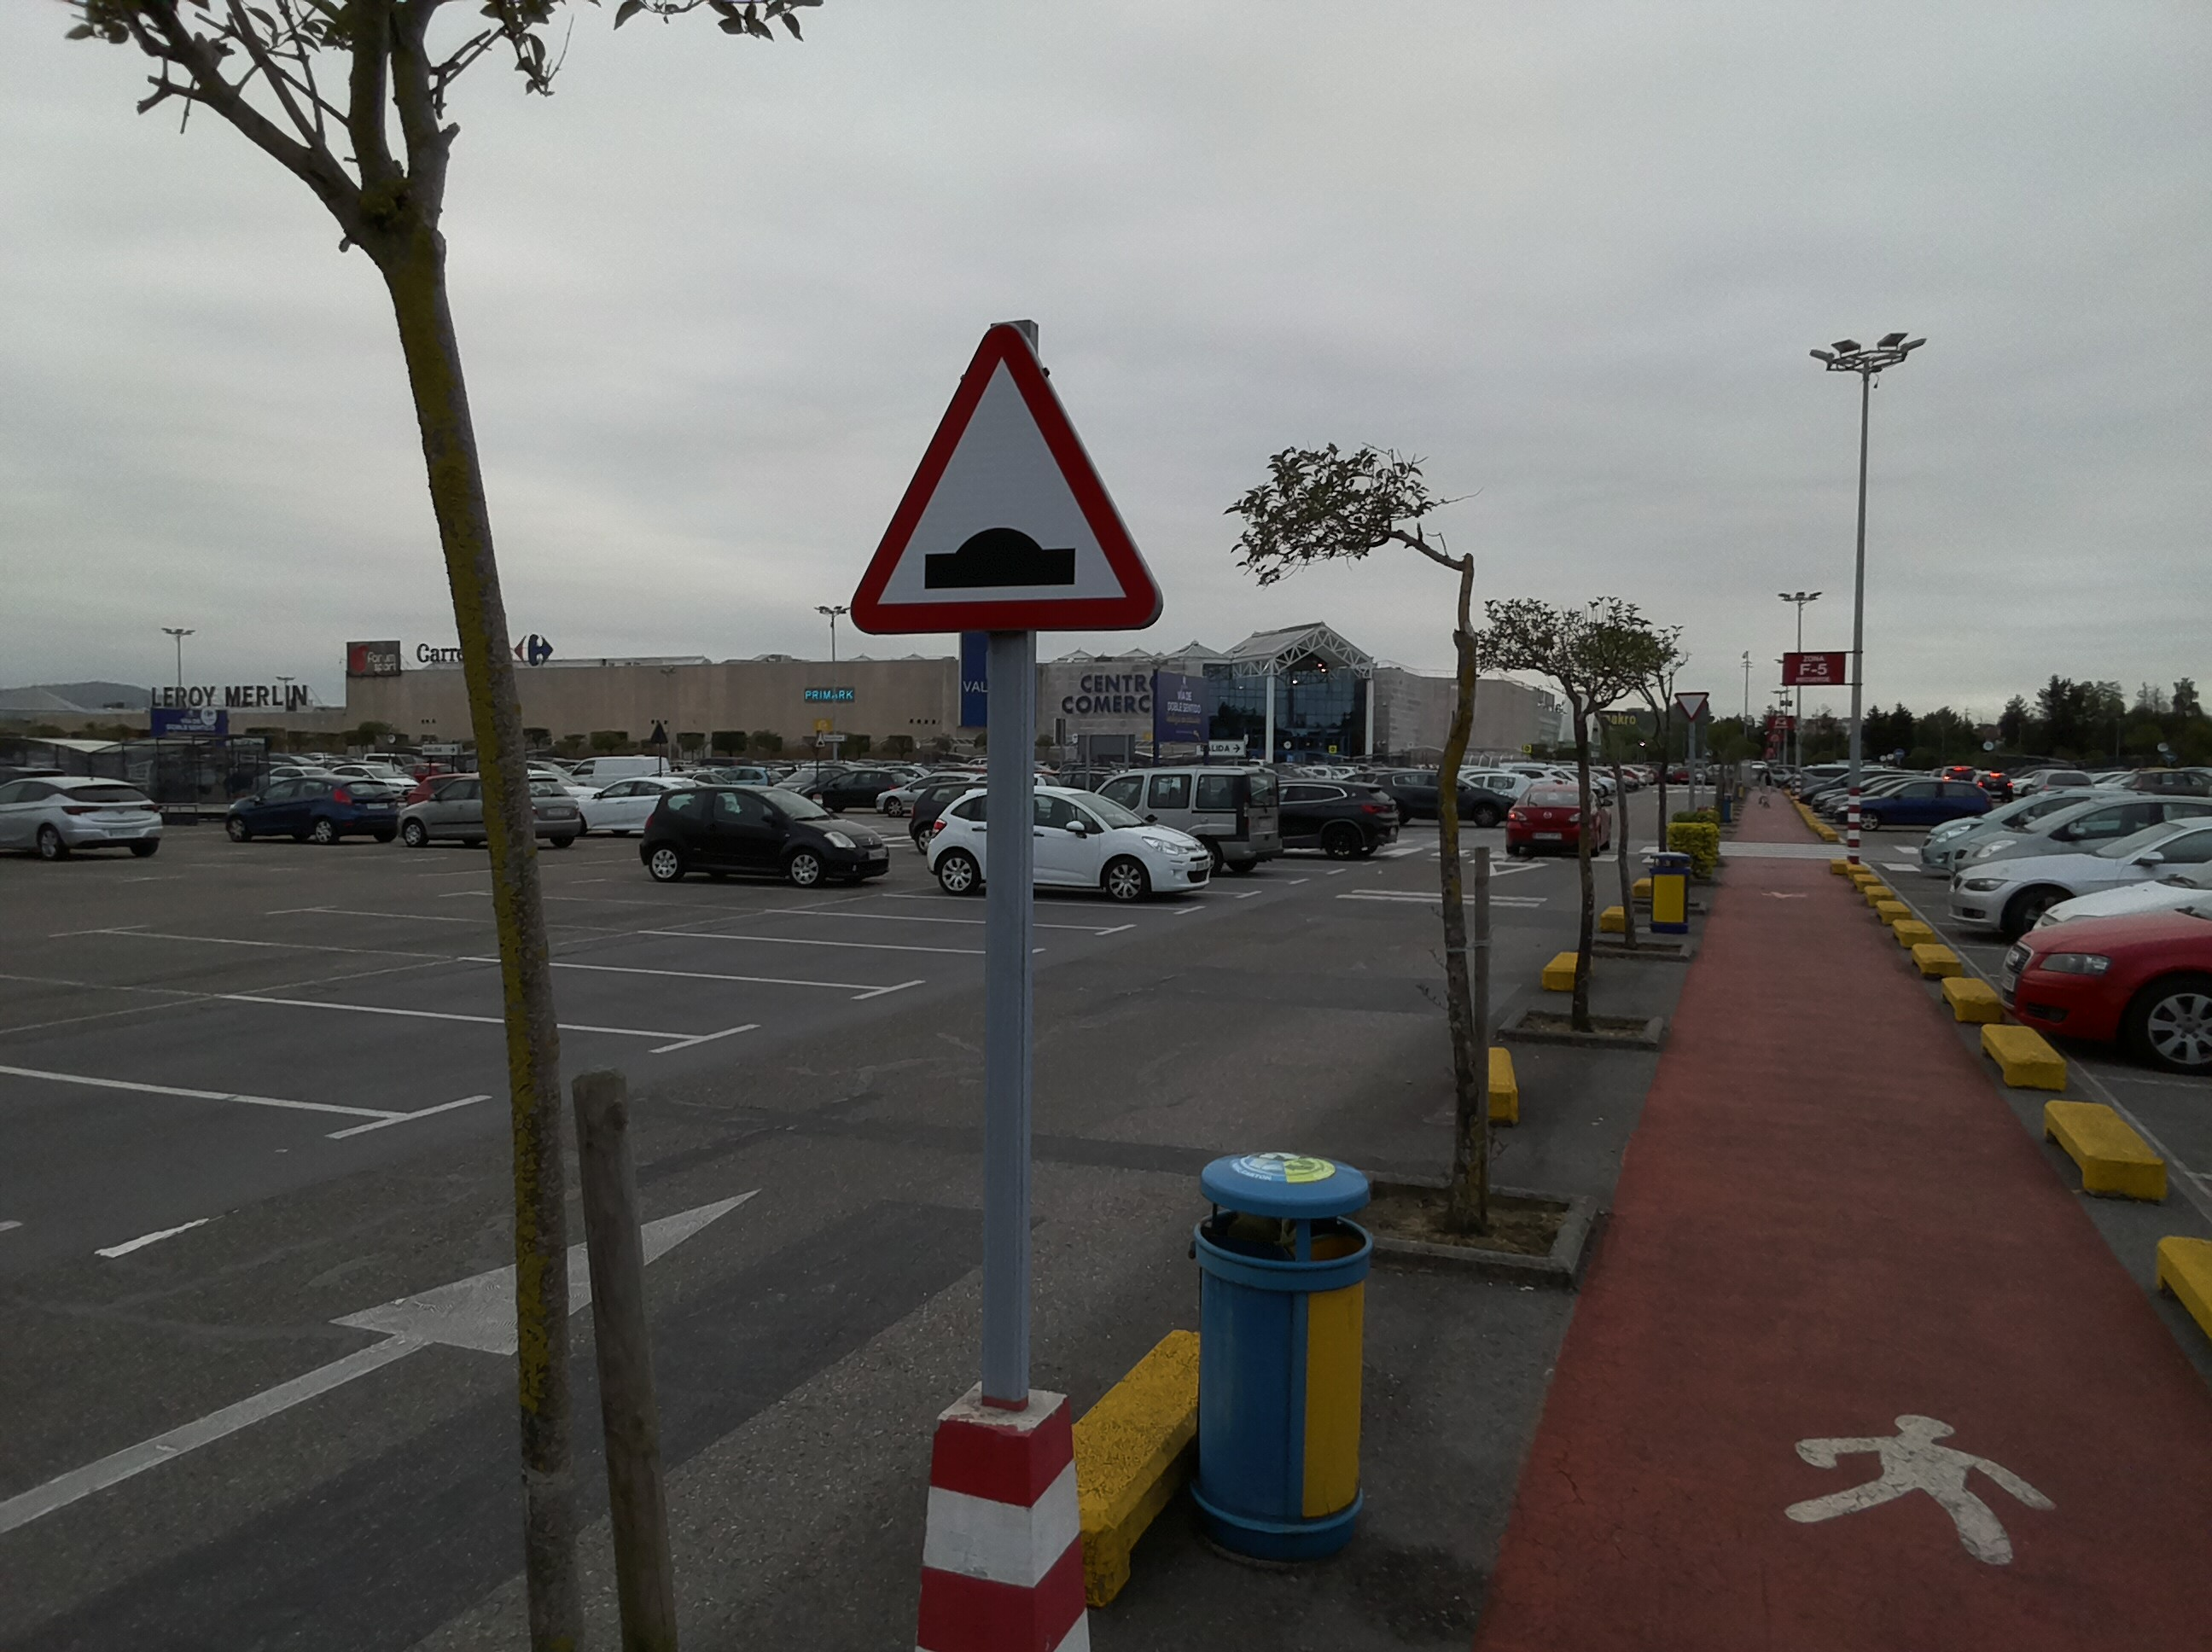Arbol: (302, 0, 678, 1642)
Cartel: (843, 297, 1185, 646)
Poste: (1187, 1144, 1383, 1563), (959, 632, 1058, 1406), (899, 1383, 1124, 1652)
